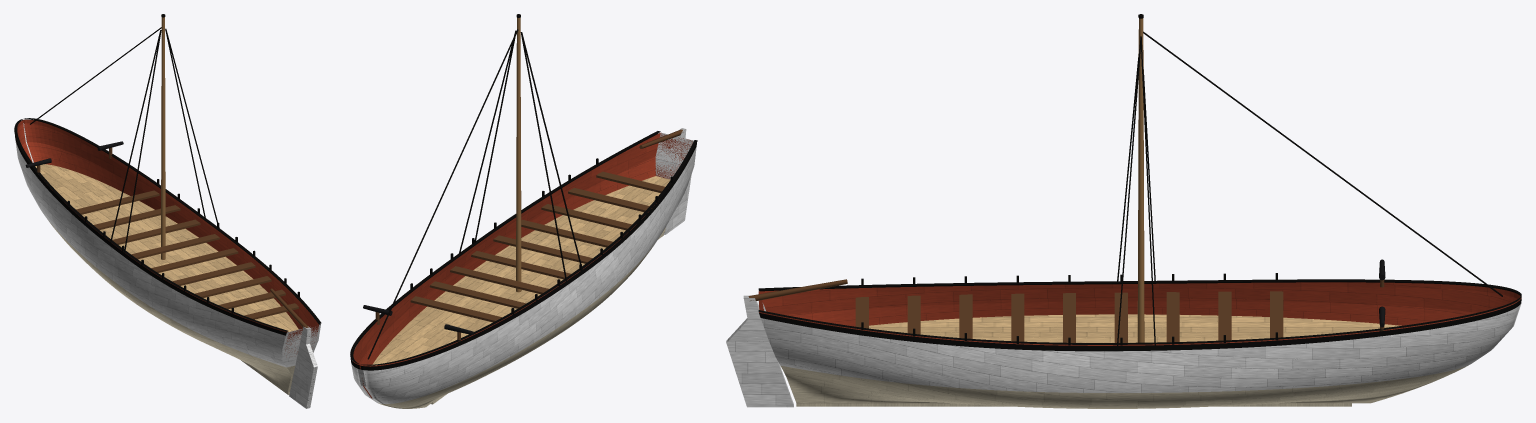
Rendered from barco_luengo.glb.
The picture shows the model from 3 angles, left to right: view 1: azimuth 30°, elevation 25°; view 2: azimuth 150°, elevation 25°; view 3: azimuth 270°, elevation 25°; orthographic projection. The views are drawn at different scales.
Parts seen in each view (by area): view 1: hull; view 2: hull; view 3: hull.
Part boxes in pixels (<box>): hull: <box>14,14,321,408</box>; hull: <box>350,14,697,408</box>; hull: <box>726,14,1521,408</box>.
Bounding box in the file's own units: 3.4 × 9.16 × 16.89.
Materials: 8 (4 with a texture image).
